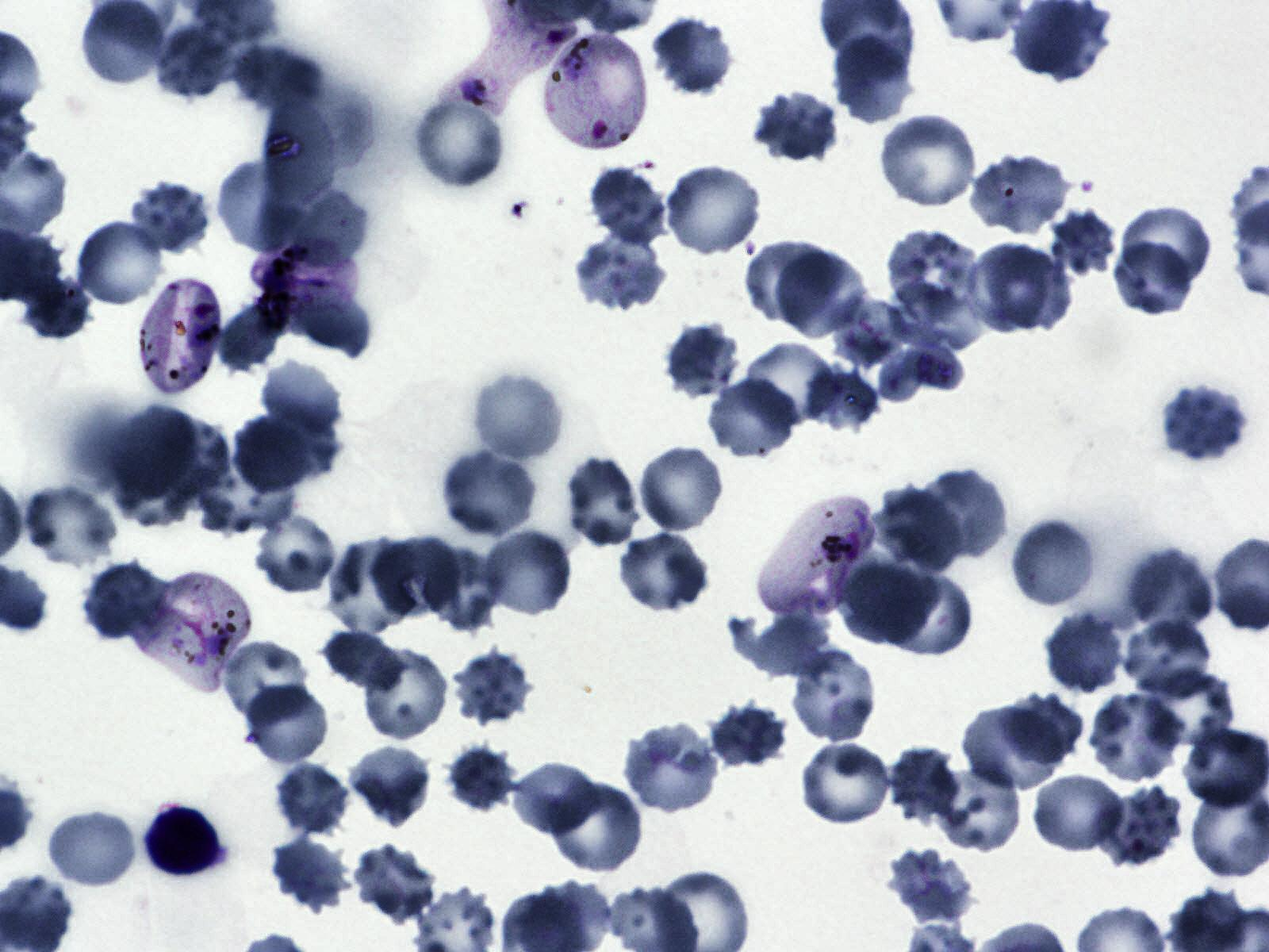Infected: (439, 0, 577, 116), (758, 497, 874, 616), (540, 28, 650, 152), (136, 574, 250, 690), (136, 275, 223, 397), (255, 241, 359, 332), (144, 803, 222, 878)
Uninfected: (546, 781, 642, 873), (884, 228, 980, 320), (661, 163, 758, 253), (624, 724, 718, 813), (745, 238, 839, 327), (964, 704, 1062, 788), (882, 115, 974, 204), (741, 346, 838, 430), (1125, 547, 1214, 638), (263, 100, 334, 213), (882, 567, 972, 655), (115, 444, 209, 528), (328, 539, 414, 630), (443, 451, 536, 535), (775, 250, 865, 336), (918, 470, 1006, 557), (572, 233, 666, 313), (475, 374, 562, 460), (417, 98, 502, 186), (970, 158, 1068, 234), (228, 39, 323, 117), (1092, 696, 1179, 781), (872, 487, 960, 571), (217, 161, 299, 251), (365, 648, 446, 739), (794, 648, 874, 740), (371, 536, 458, 620), (983, 246, 1072, 328), (842, 565, 931, 647), (940, 759, 1020, 850), (482, 533, 569, 616), (422, 544, 504, 632), (830, 35, 911, 124), (25, 487, 115, 566), (709, 377, 796, 458), (641, 447, 723, 532), (1011, 521, 1093, 606), (78, 222, 163, 304), (1147, 669, 1233, 750), (115, 407, 195, 494), (730, 612, 830, 681), (1160, 386, 1248, 464), (197, 461, 291, 534), (226, 642, 309, 724), (282, 188, 368, 267), (968, 244, 1043, 334), (888, 280, 983, 351), (1125, 621, 1210, 700), (1032, 776, 1123, 849), (246, 682, 328, 763), (1186, 729, 1269, 809), (804, 745, 889, 823), (249, 411, 341, 482), (752, 90, 840, 164), (618, 535, 706, 609), (588, 166, 668, 247), (355, 845, 437, 924), (82, 563, 164, 642), (654, 16, 735, 95), (1044, 612, 1120, 696), (1129, 209, 1210, 287), (1098, 788, 1181, 864), (351, 747, 429, 826), (51, 812, 132, 888), (153, 419, 231, 497), (273, 761, 352, 838), (516, 764, 600, 836), (885, 747, 960, 827), (889, 850, 971, 923), (256, 517, 334, 593), (1008, 690, 1085, 766), (456, 650, 535, 724), (155, 25, 234, 98), (572, 460, 638, 547), (234, 419, 309, 495), (1116, 242, 1191, 316), (834, 297, 910, 370), (804, 362, 883, 432), (263, 359, 339, 431), (129, 183, 207, 253), (273, 840, 348, 912), (669, 324, 738, 397), (446, 743, 519, 811), (324, 631, 404, 693), (293, 298, 371, 359), (711, 703, 785, 766), (20, 277, 94, 339), (220, 302, 283, 374), (1051, 212, 1113, 275)
